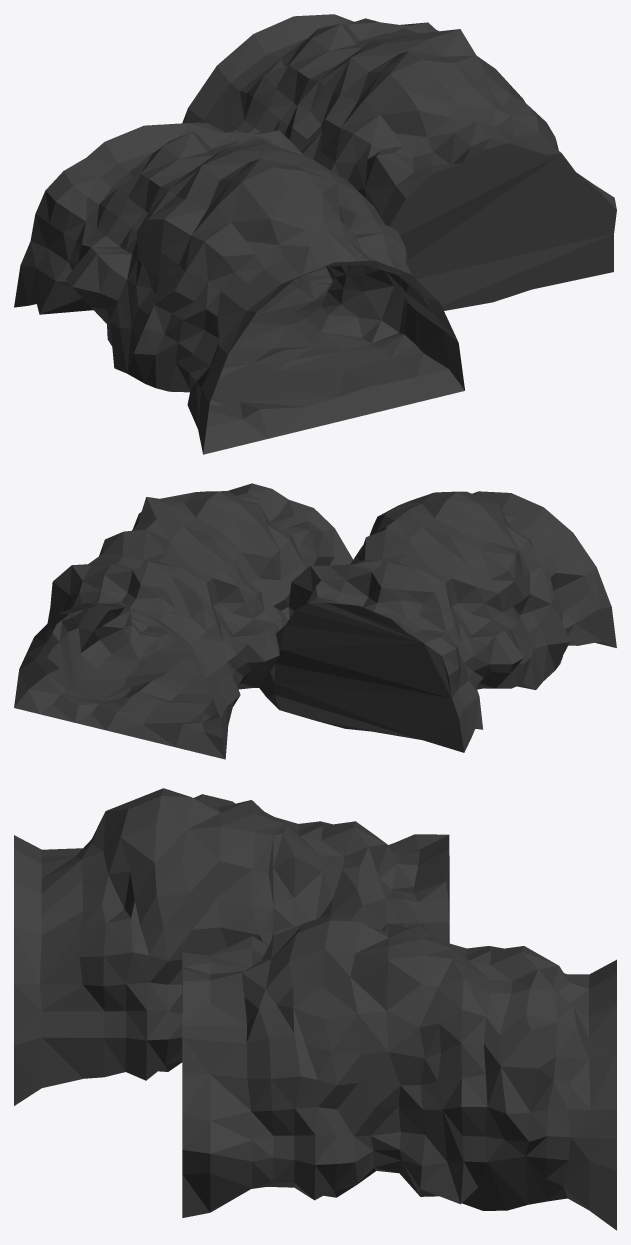
The model's file is Cave_7_LOD_1.fbx.
3 renders of one model, top to bottom at view 1: azimuth 30°, elevation 25°; view 2: azimuth 150°, elevation 25°; view 3: azimuth 270°, elevation 25°, orthographic. The views are drawn at different scales.
Visible parts, largest first — view 1: Group3716; view 2: Group3716; view 3: Group3716.
Part boxes in pixels (bbox=[...]): Group3716: bbox=[14, 14, 616, 454]; Group3716: bbox=[14, 483, 616, 759]; Group3716: bbox=[14, 788, 616, 1230].
Bounding box in the file's own units: 15.9 × 6.26 × 14.32.
